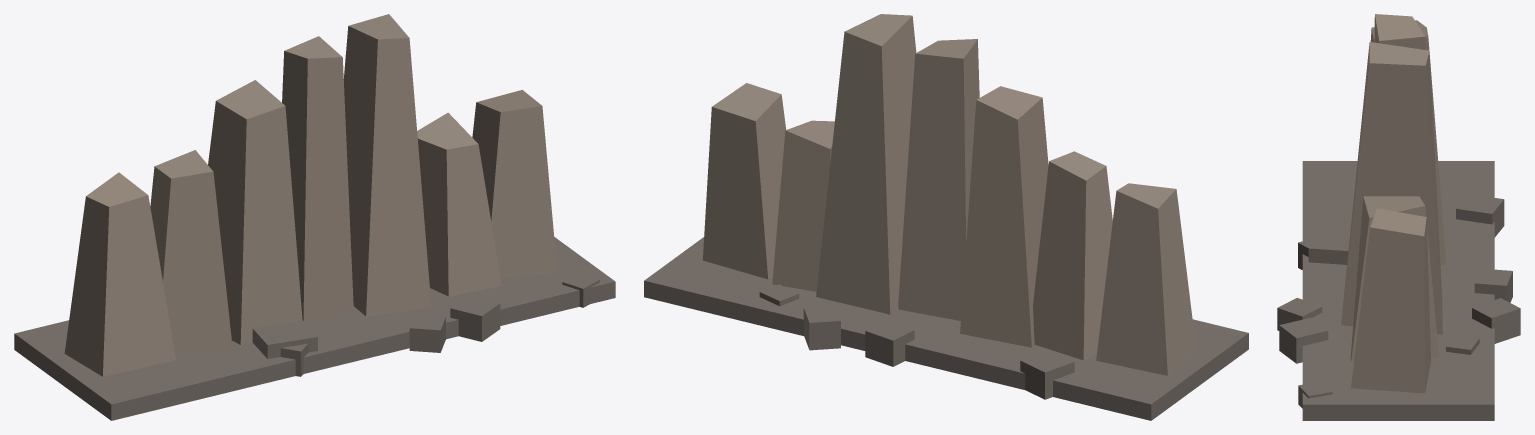
The model's file is RockWall.fbx.
The picture shows the model from 3 angles, left to right: view 1: azimuth 30°, elevation 25°; view 2: azimuth 150°, elevation 25°; view 3: azimuth 270°, elevation 25°; orthographic projection.
Parts seen in each view (by area): view 1: Wall_Pillars, Wall_Base, Wall_Rubble; view 2: Wall_Pillars, Wall_Base, Wall_Rubble; view 3: Wall_Pillars, Wall_Base, Wall_Rubble.
Boxes of the visible parts, <box> form: Wall_Pillars: <box>64,14,557,376</box>; Wall_Base: <box>14,237,615,420</box>; Wall_Rubble: <box>252,273,599,376</box>; Wall_Pillars: <box>702,14,1196,375</box>; Wall_Base: <box>644,237,1248,420</box>; Wall_Rubble: <box>759,284,1074,399</box>; Wall_Pillars: <box>1341,14,1446,393</box>; Wall_Base: <box>1302,161,1494,420</box>; Wall_Rubble: <box>1277,194,1520,408</box>.
Bounding box in the file's own units: 480 × 258 × 202.
